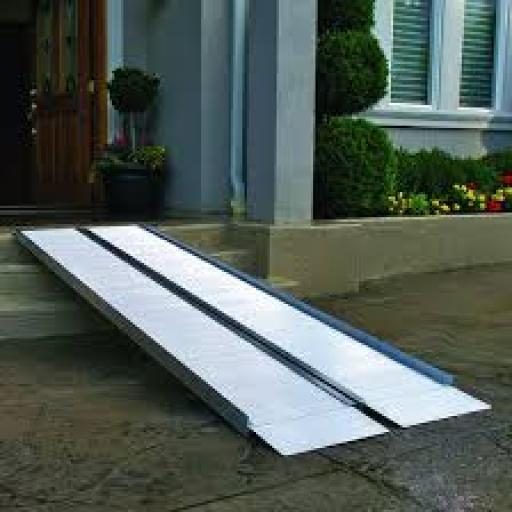ramp: (12, 225, 492, 458)
stairs: (0, 232, 48, 339)
